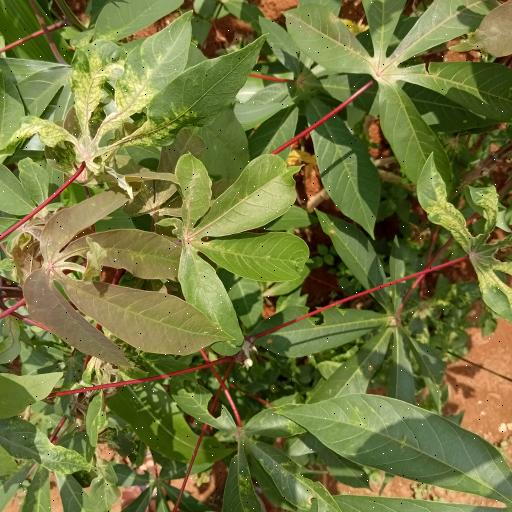Cassava_Brown_Leaf_Spot: (0, 16, 267, 190)
Cassava_Healthy: (287, 0, 512, 189), (173, 152, 310, 345)
